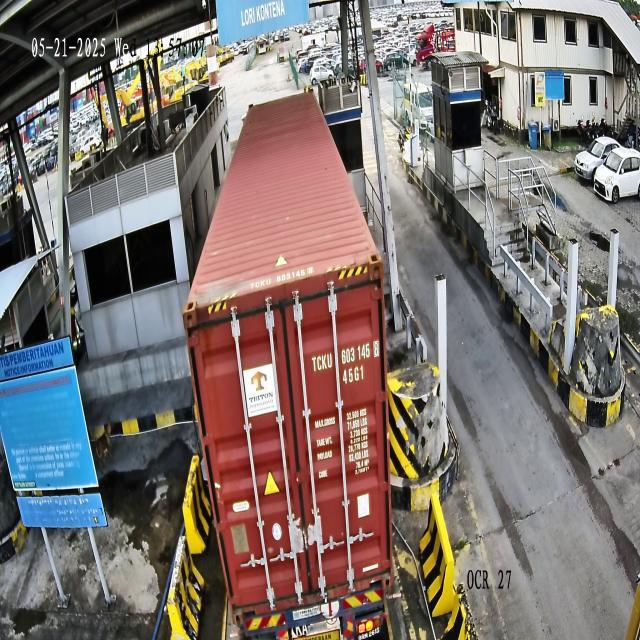ISO: (342, 364, 364, 386)
container_number: (308, 338, 381, 376)
